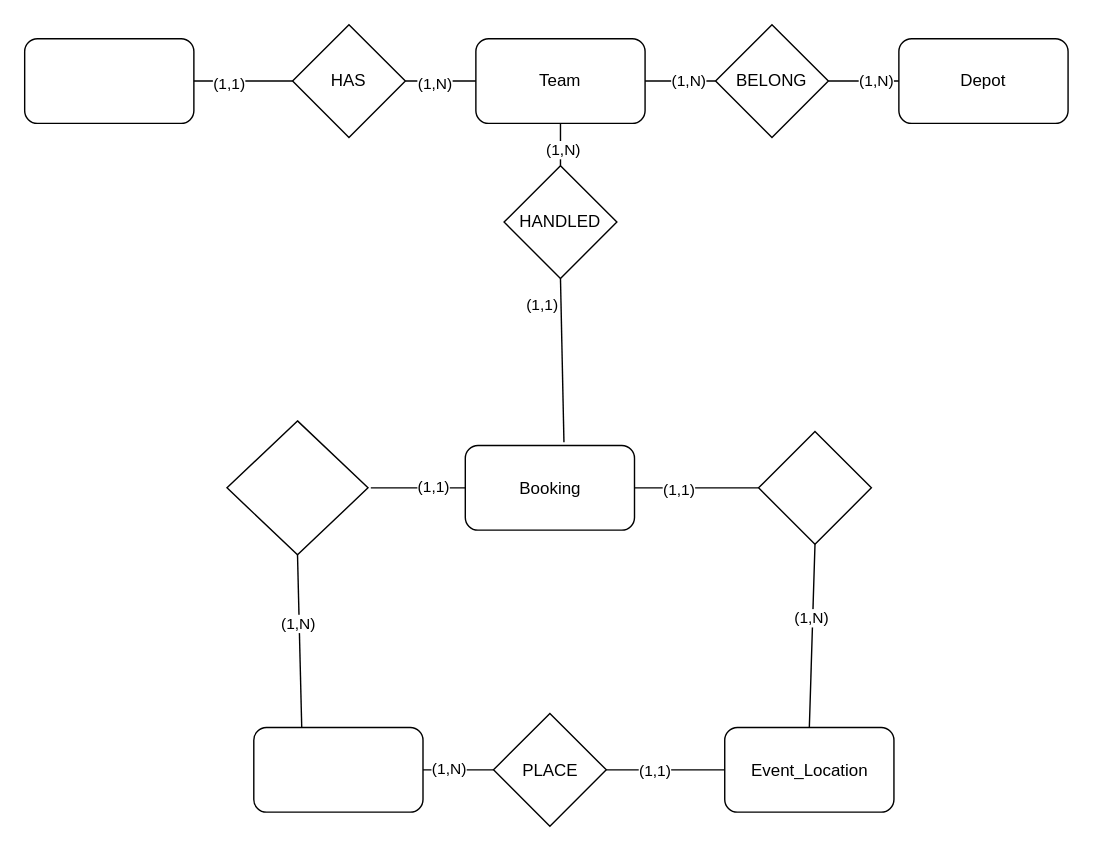
Image size: 1093x852. Some labels were removed from this diagram. Here are the shapes that lost their labels. From the top down, the centre of each, then its label:
At (108,80): "Member".
At (297,487): "RESERVATION".
At (814,487): "Located_in".
At (337,769): "Customer".
